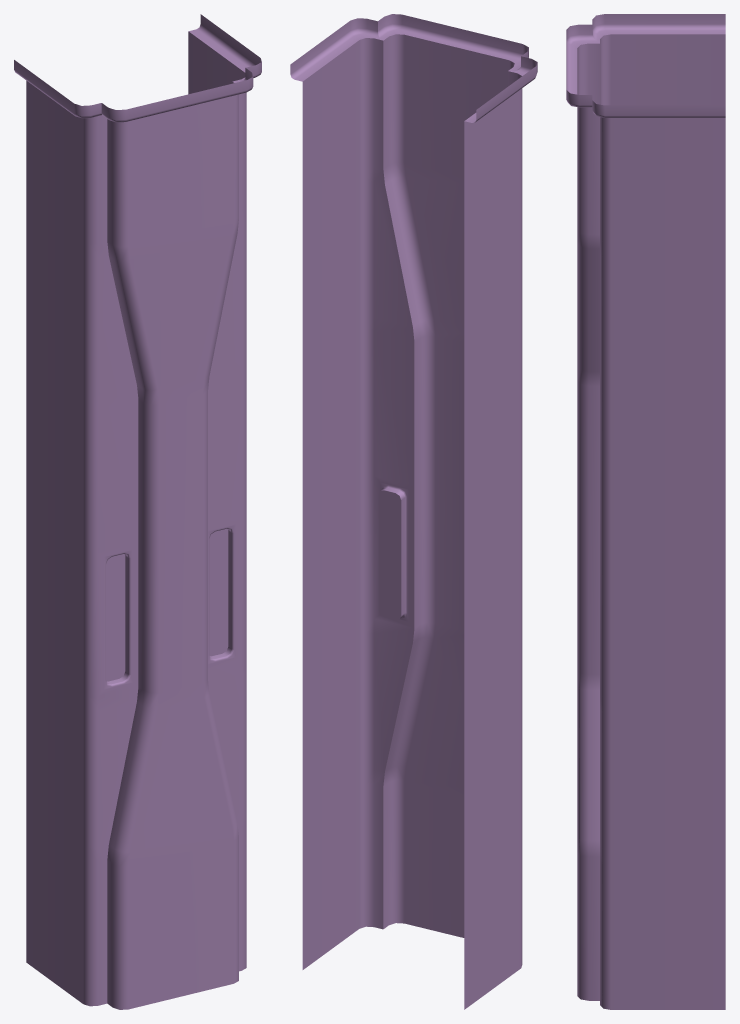
The model's file is schrank.fbx.
3 views of the same model, side by side, from view 1: azimuth 30°, elevation 25°; view 2: azimuth 150°, elevation 25°; view 3: azimuth 270°, elevation 25° (orthographic).
Parts seen in each view (by area): view 1: schrank; view 2: schrank; view 3: schrank.
Boxes of the visible parts, x1,y1,x2,y2 form: schrank: (14,14,261,1009); schrank: (290,14,537,1009); schrank: (566,14,725,1009).
Size of the model in its own units: 0.8621 by 4 by 0.6349.
